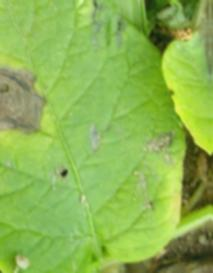Tomato Early blight leaf: (0, 0, 177, 273)
